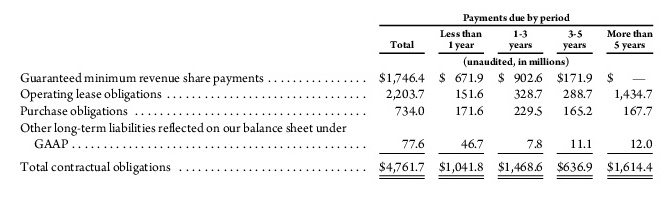table: (0, 0, 666, 200)
